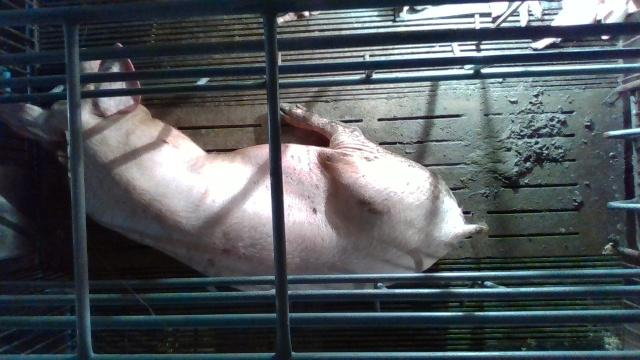sow-sit: (0, 41, 484, 291)
